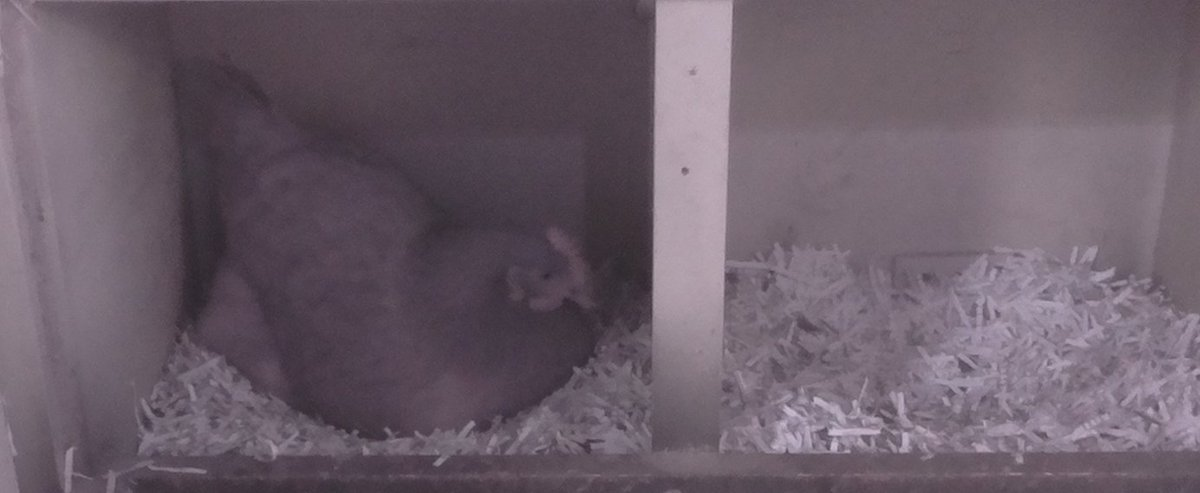hen: (191, 54, 606, 438)
